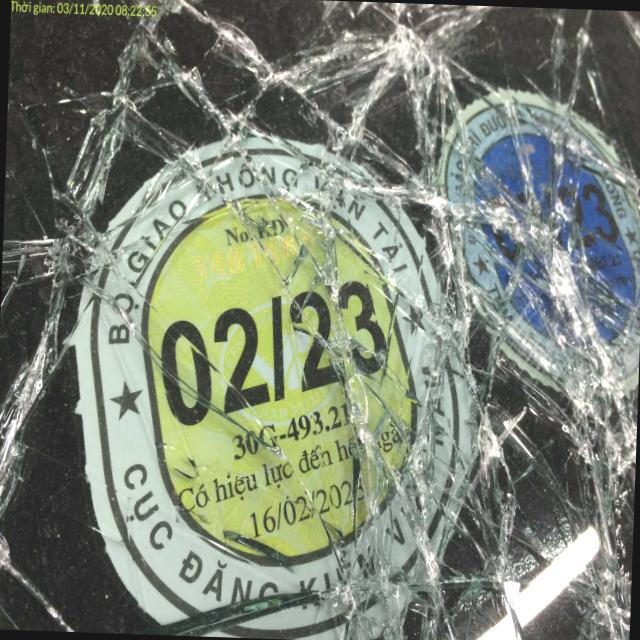Fissure: (317, 0, 537, 640), (194, 8, 346, 300), (194, 364, 331, 564)
